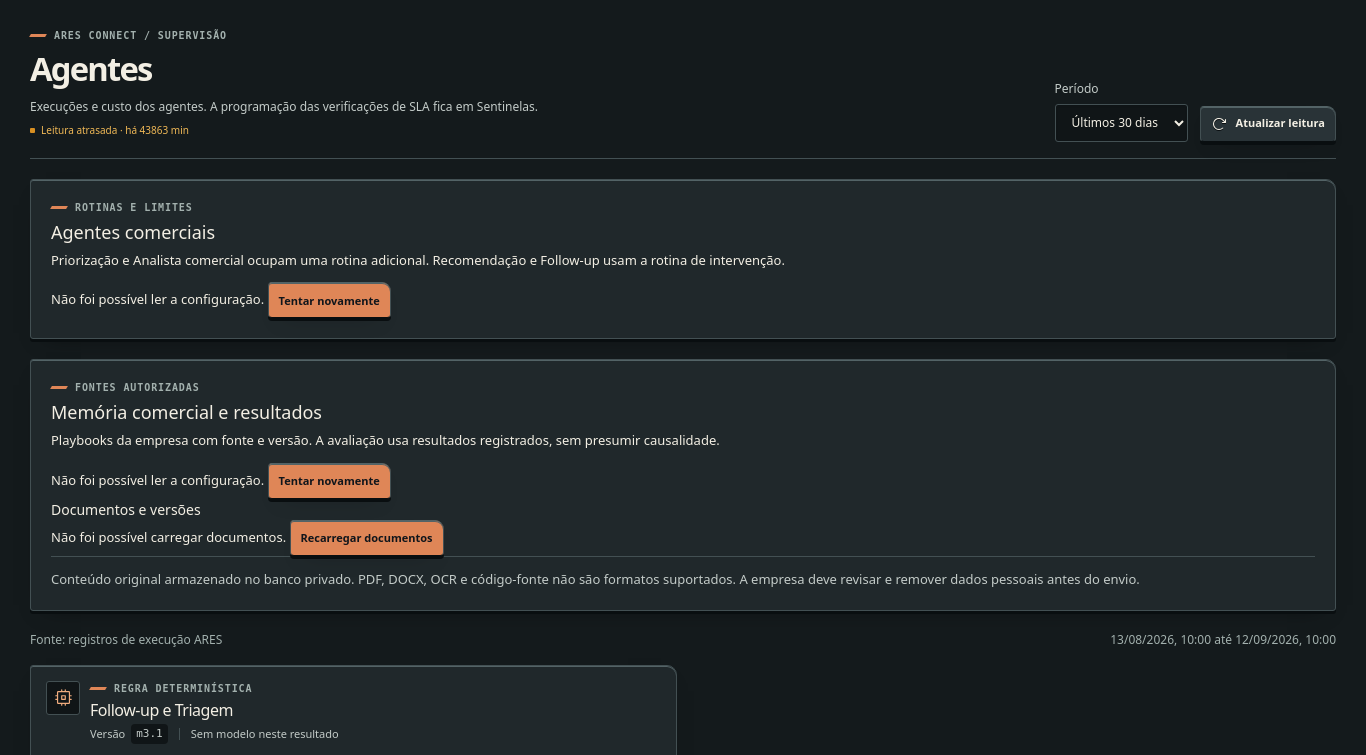
Test: revoked access hides previously cached metrics and shows correlation
expect the heading "Follow-up e Triagem" is shown: met, box [90,699,233,721]
What coordinates should you click on to do the following:
click the button "Atualizar leitura"
I would click on:
 (1268, 124)
Its box is [1200,106,1336,142].
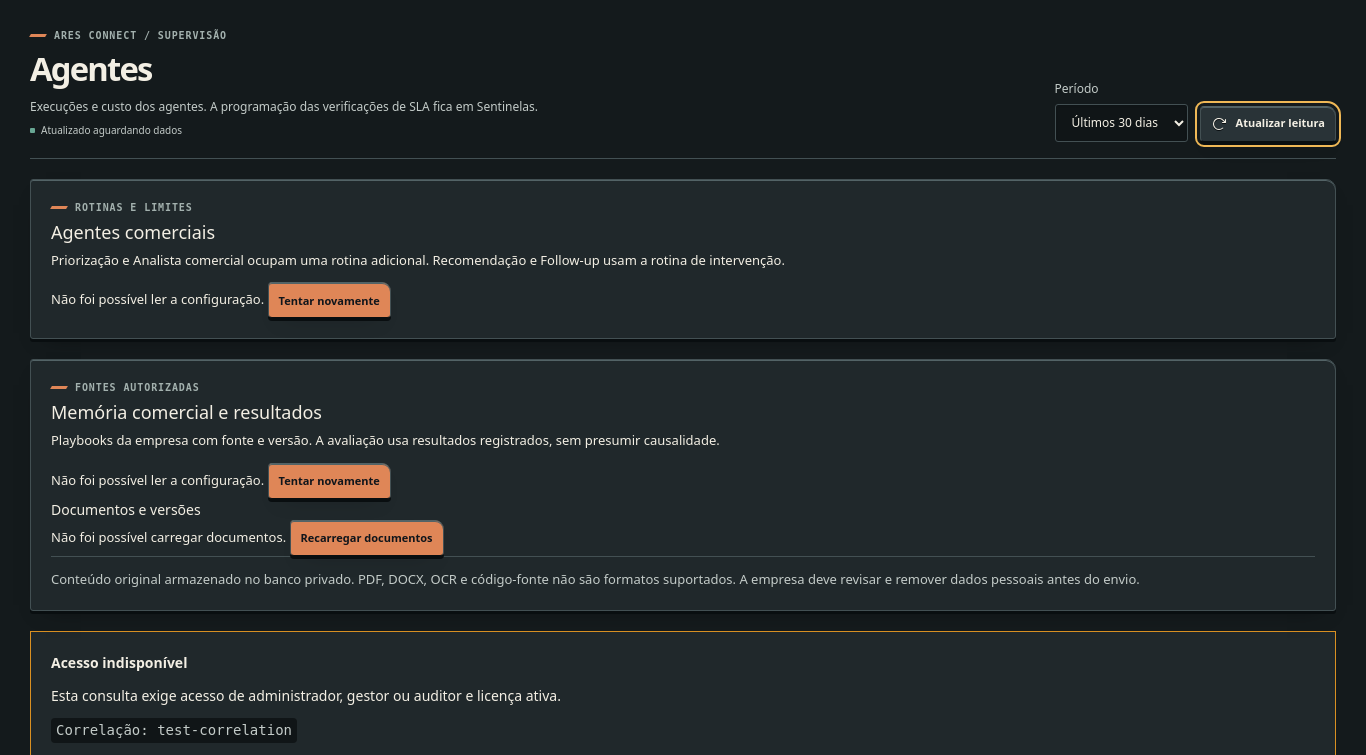
expect the text "Acesso indisponível" is shown: met, box [51,652,187,673]
expect the heading "Follow-up e Triagem" is gone: met
expect the text "Correlação: test-correlation" is shown: met, box [51,718,297,743]
